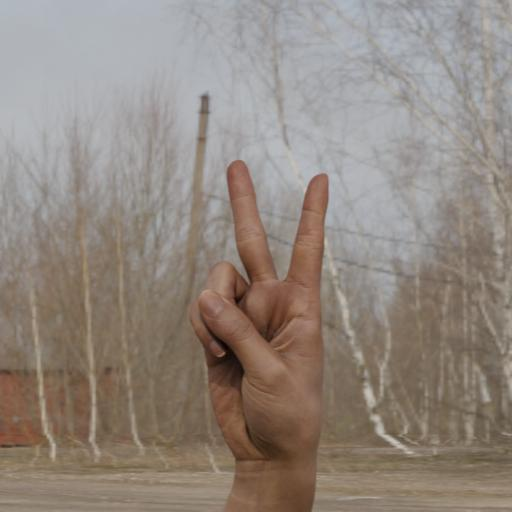V: (186, 156, 340, 464)
